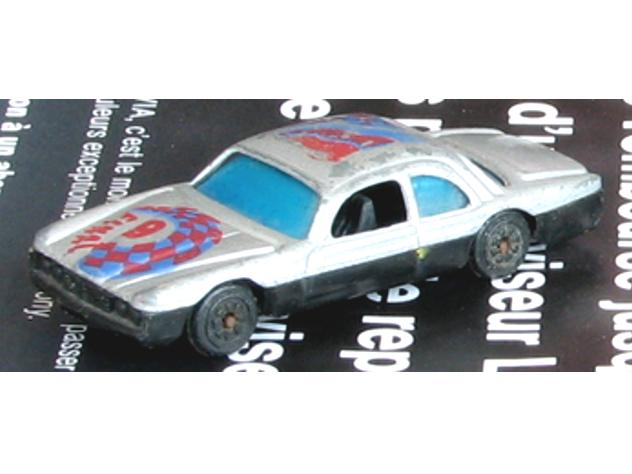toy-car: (27, 112, 606, 358)
